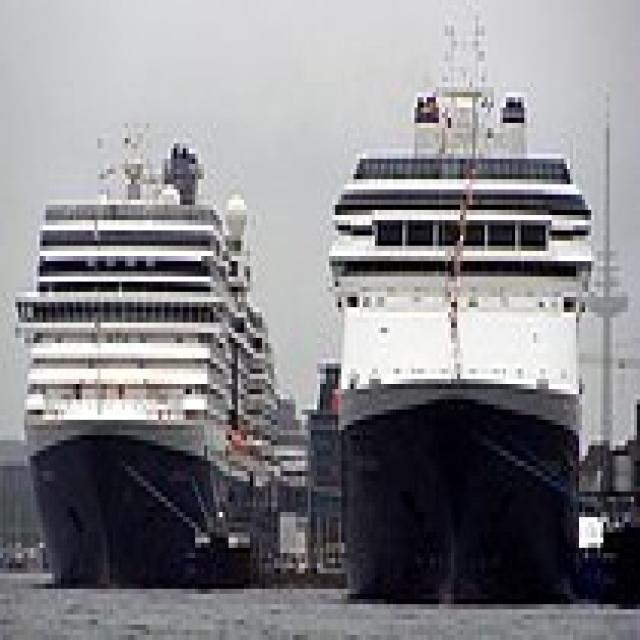Ship: (321, 11, 608, 626), (4, 104, 288, 606)
